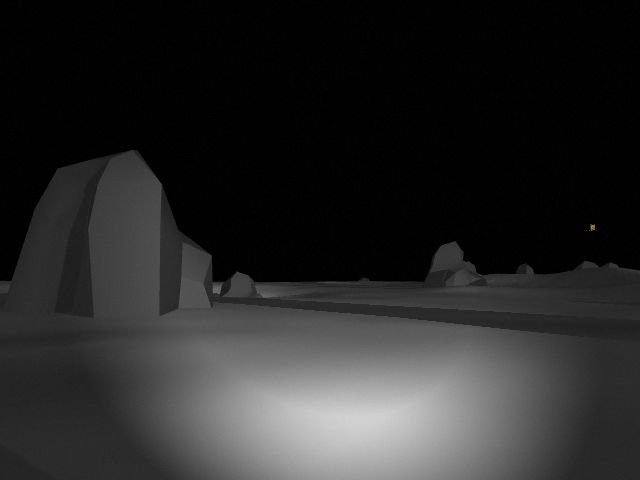cubesat: (590, 223, 597, 231)
